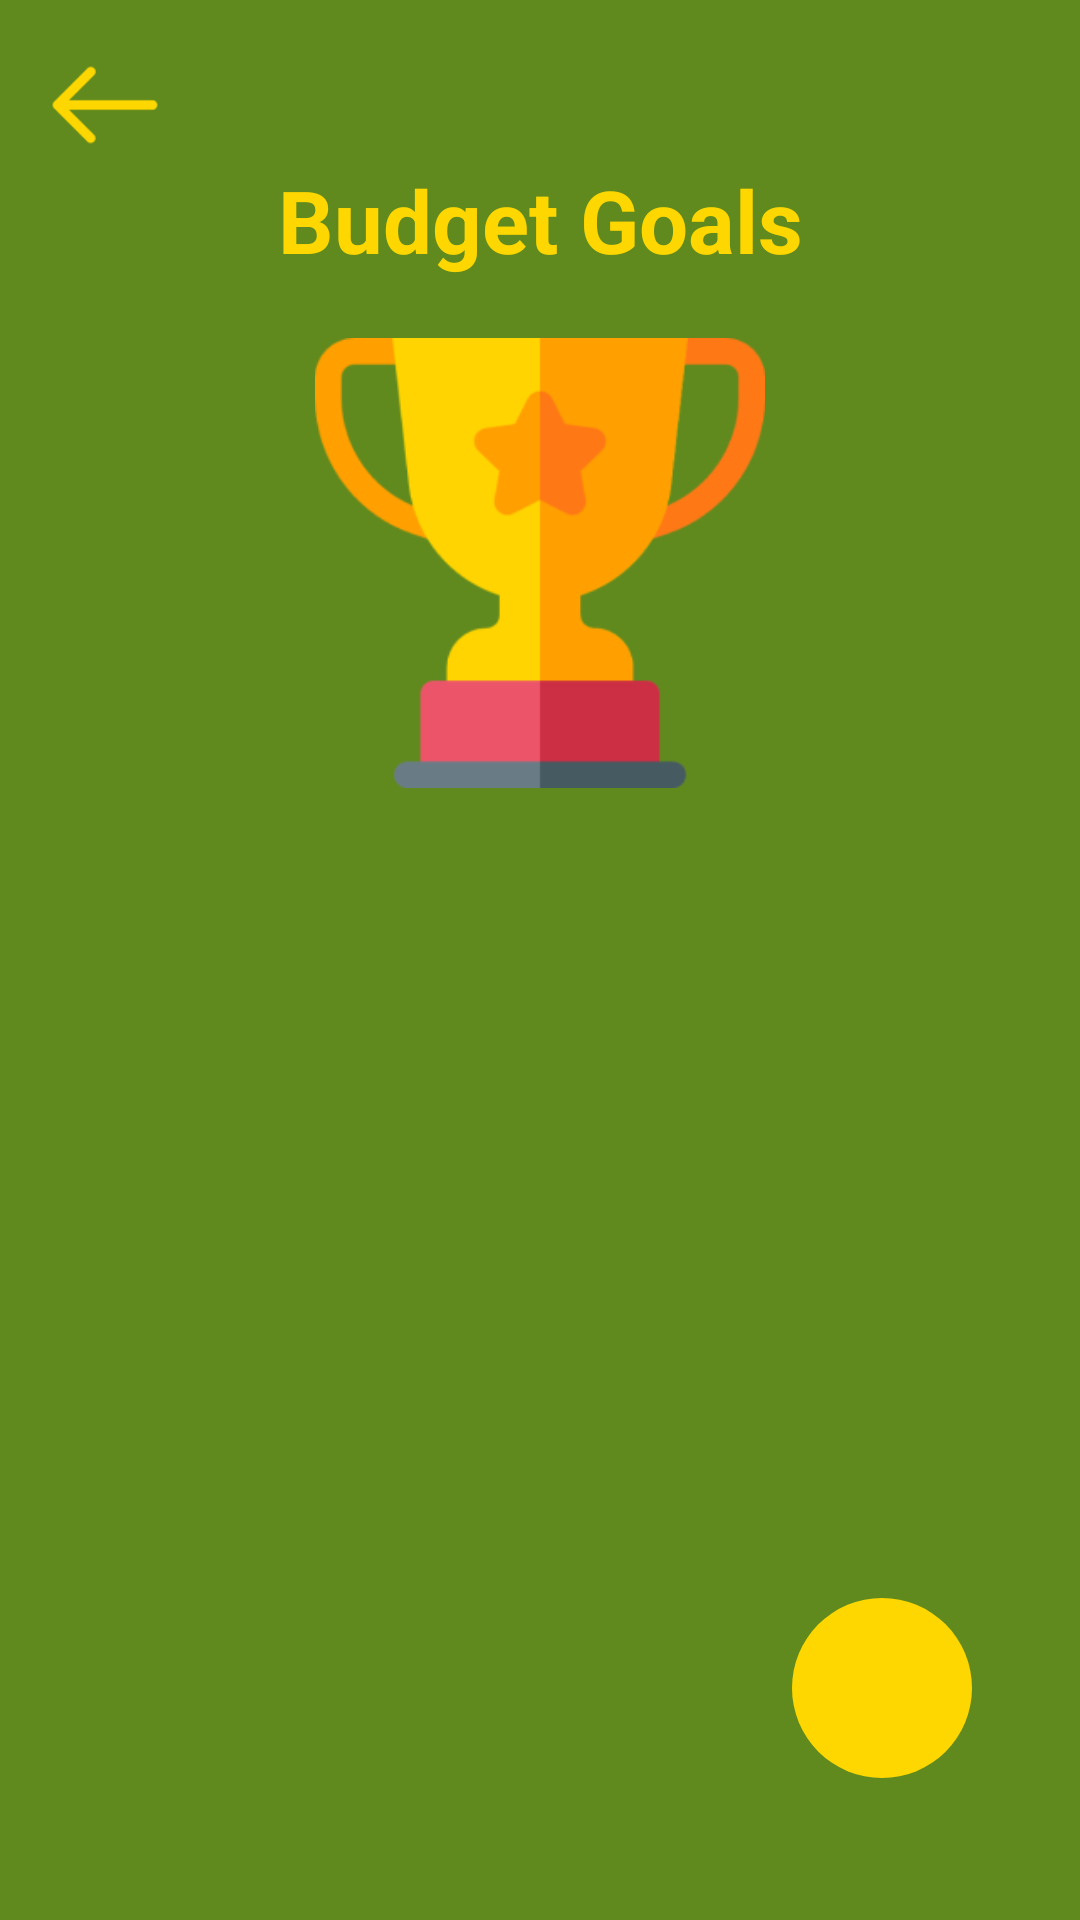

Locate icon controls on the screen. Image size 1080w x 1920h, boxes as box=[x1, y1, x2, y2].
back: box=[52, 66, 158, 144]
